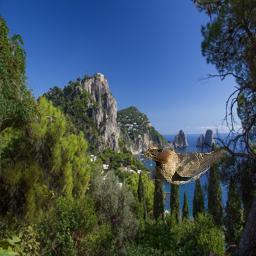Swallow: (144, 143, 227, 188)
